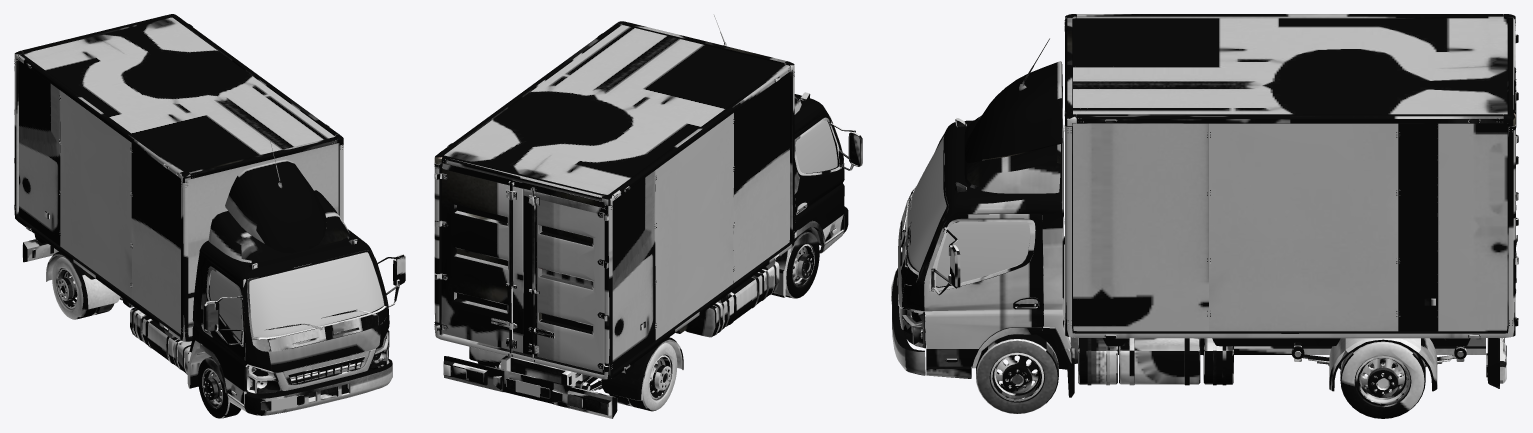
Rendered from TRAFFIC_Wagon002.fbx.
3 views of the same model, side by side, from view 1: azimuth 30°, elevation 25°; view 2: azimuth 150°, elevation 25°; view 3: azimuth 270°, elevation 25° (orthographic). The views are drawn at different scales.
Parts seen in each view (by area): view 1: TRAFFIC_Wagon002 Body, TRAFFIC_Wagon002 Glass, TRAFFIC_Wagon002 WRR, TRAFFIC_Wagon002 WFR; view 2: TRAFFIC_Wagon002 Body, TRAFFIC_Wagon002 WRR, TRAFFIC_Wagon002 WFR, TRAFFIC_Wagon002 Glass; view 3: TRAFFIC_Wagon002 Body, TRAFFIC_Wagon002 Glass, TRAFFIC_Wagon002 WRL, TRAFFIC_Wagon002 WFL.
Boxes of the visible parts, x1,y1,x2,y2 form: TRAFFIC_Wagon002 Body: [14, 14, 405, 415]; TRAFFIC_Wagon002 Glass: [209, 252, 383, 340]; TRAFFIC_Wagon002 WRR: [52, 257, 114, 319]; TRAFFIC_Wagon002 WFR: [198, 357, 241, 418]; TRAFFIC_Wagon002 Body: [434, 14, 862, 418]; TRAFFIC_Wagon002 WRR: [609, 342, 677, 411]; TRAFFIC_Wagon002 WFR: [785, 231, 819, 298]; TRAFFIC_Wagon002 Glass: [795, 120, 837, 173]; TRAFFIC_Wagon002 Body: [891, 14, 1518, 397]; TRAFFIC_Wagon002 Glass: [907, 136, 1029, 286]; TRAFFIC_Wagon002 WRL: [1340, 341, 1425, 418]; TRAFFIC_Wagon002 WFL: [976, 334, 1058, 413].
Bounding box in the file's own units: 297 × 353 × 604.
